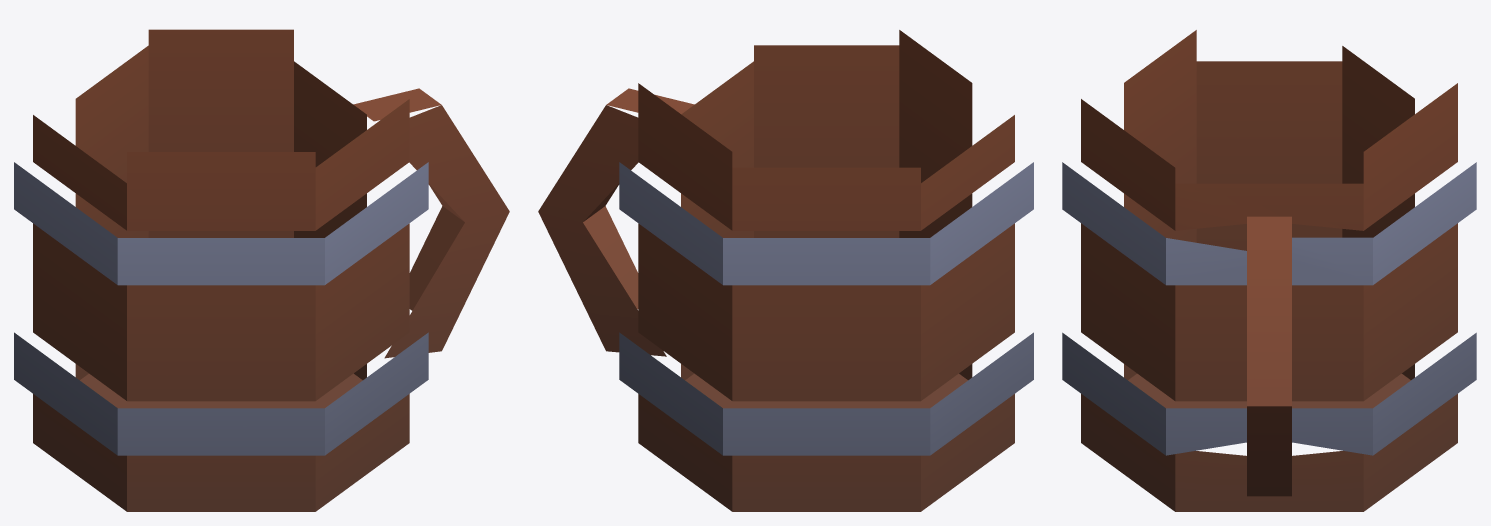
The model's file is tankard.lod.glb.
3 views of the same model, side by side, from view 1: azimuth 30°, elevation 25°; view 2: azimuth 150°, elevation 25°; view 3: azimuth 270°, elevation 25° (orthographic).
Parts seen in each view (by area): view 1: m; view 2: m; view 3: m.
Boxes of the visible parts, x1,y1,x2,y2 form: m: [14, 29, 509, 511]; m: [538, 30, 1033, 511]; m: [1062, 30, 1476, 511].
Size of the model in its own units: 0.1006 by 0.08 by 0.0834.
